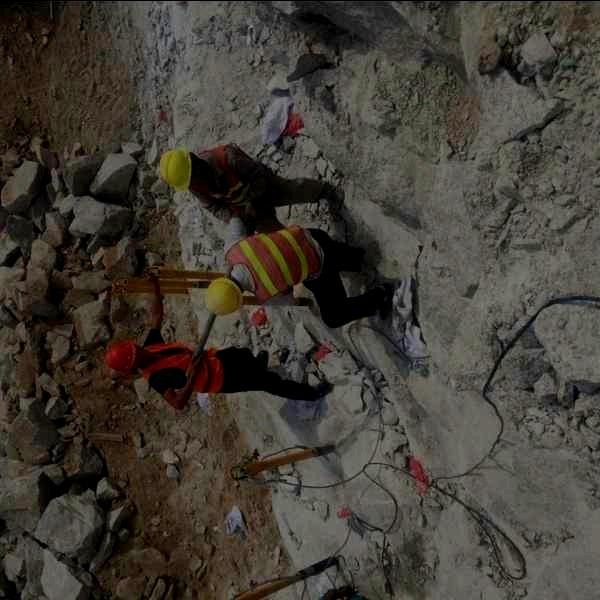helmet: (158, 146, 207, 194), (204, 274, 245, 317), (104, 337, 150, 374)
